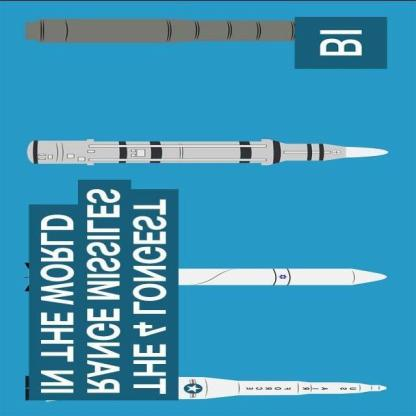MIL_TBM: (19, 133, 398, 169), (175, 369, 393, 404), (172, 264, 397, 287)
